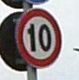limite 10: (17, 8, 60, 68)
